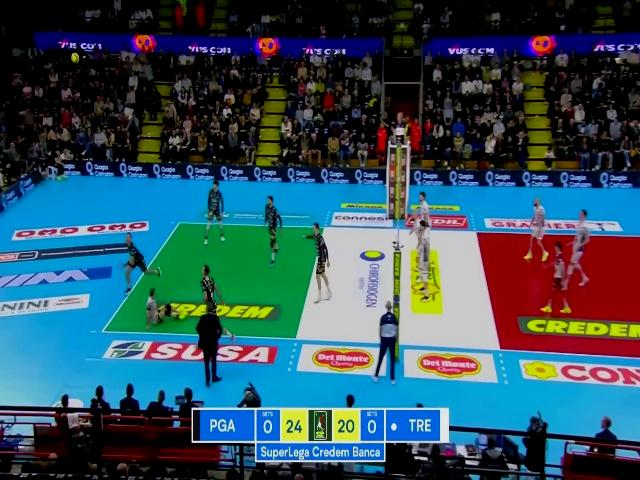volleyball court: (100, 219, 639, 359)
